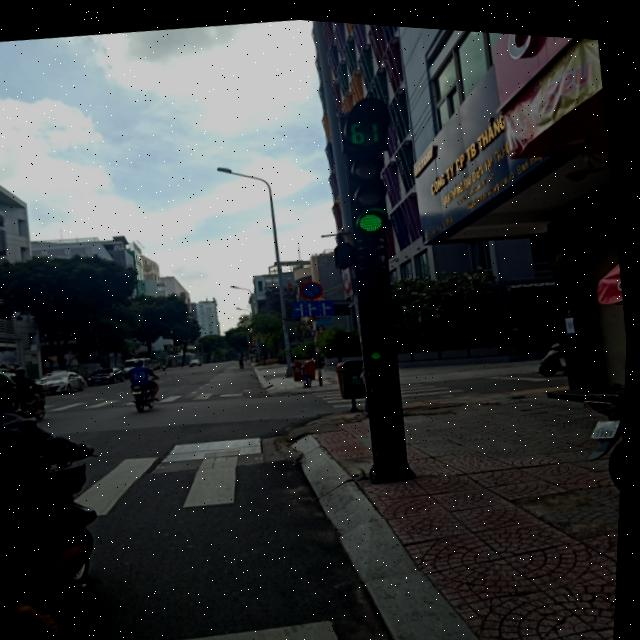Green: (335, 133, 404, 236), (354, 304, 397, 366)
